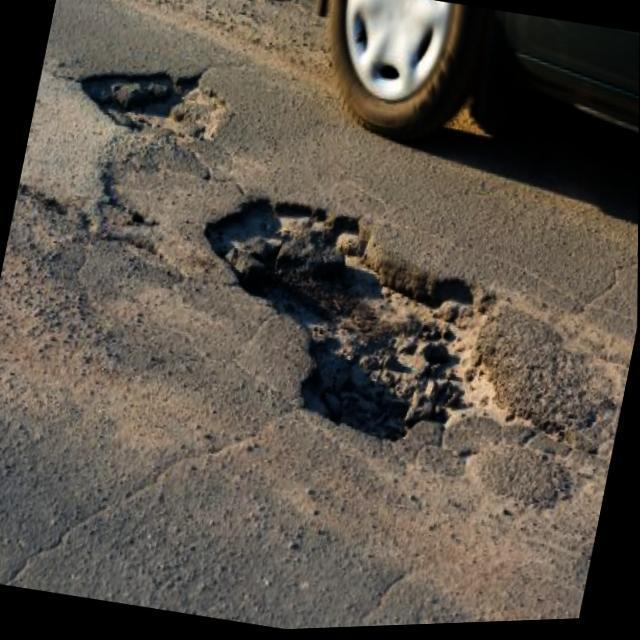Pothole: (205, 199, 530, 438), (80, 72, 231, 141)
